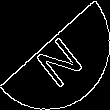N_NW: (26, 23, 84, 87)
